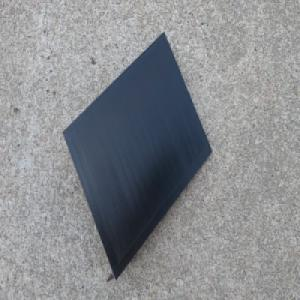PlasticPart: (62, 30, 212, 280)
